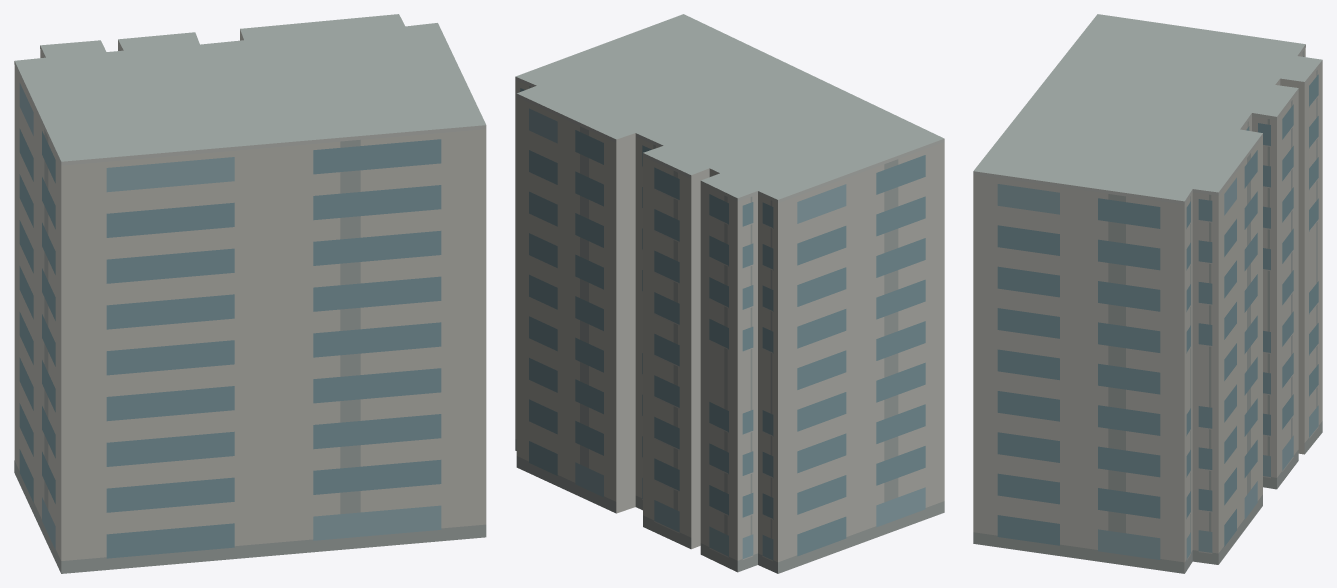
Rendered from survey-upis-32834709.glb.
The picture shows the model from 3 angles, left to right: view 1: azimuth 30°, elevation 25°; view 2: azimuth 150°, elevation 25°; view 3: azimuth 270°, elevation 25°; orthographic projection. The views are drawn at different scales.
Visible parts, largest first — view 1: survey-upis-32834709.tmp; view 2: survey-upis-32834709.tmp; view 3: survey-upis-32834709.tmp.
Boxes of the visible parts, left/top/right/bottom form: survey-upis-32834709.tmp: left=14, top=14, right=486, bottom=573; survey-upis-32834709.tmp: left=515, top=14, right=944, bottom=573; survey-upis-32834709.tmp: left=973, top=14, right=1322, bottom=573.
Size of the model in its own units: 28.38 by 26.3 by 22.37.
